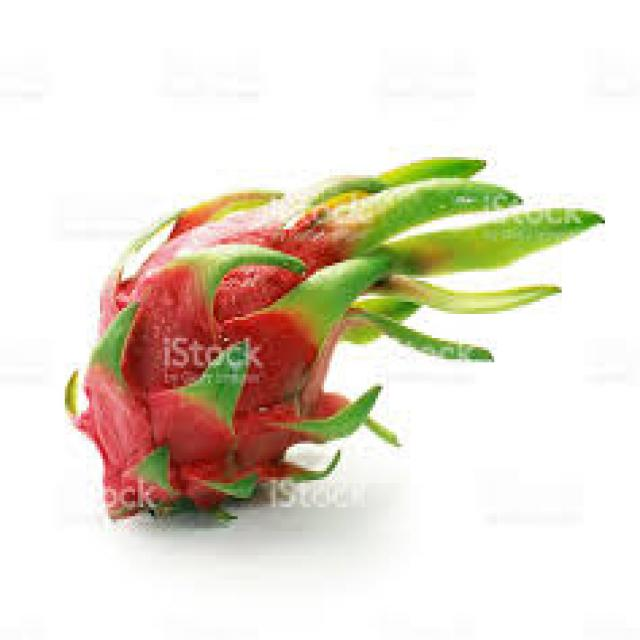organic waste: (60, 151, 602, 525)
